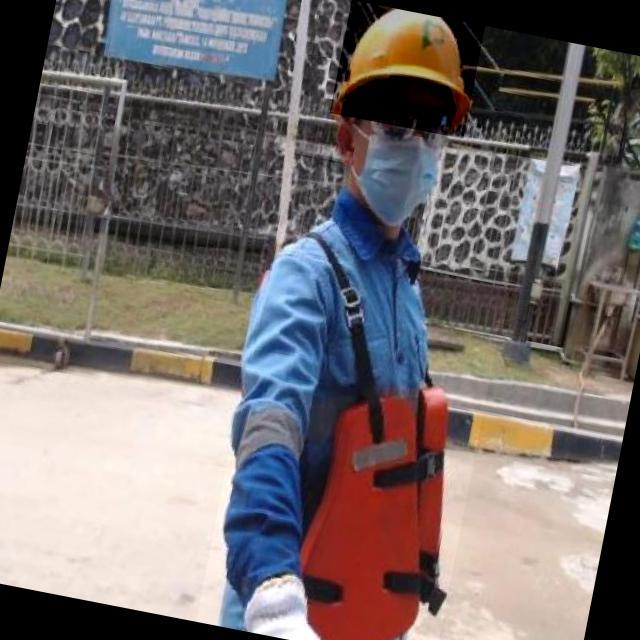Gloves: (238, 565, 330, 640)
Helmet: (330, 0, 485, 139)
Person: (168, 3, 512, 640)
Safety Vest: (196, 189, 514, 640)
